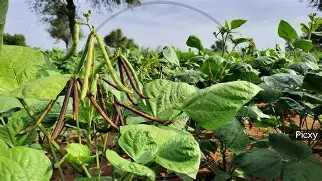crops: (0, 7, 317, 174), (245, 53, 319, 111), (0, 40, 64, 91), (158, 42, 209, 81), (278, 15, 319, 54), (212, 17, 248, 55)
